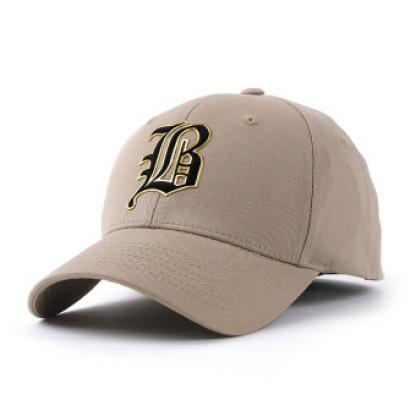cap: (17, 76, 390, 344)
